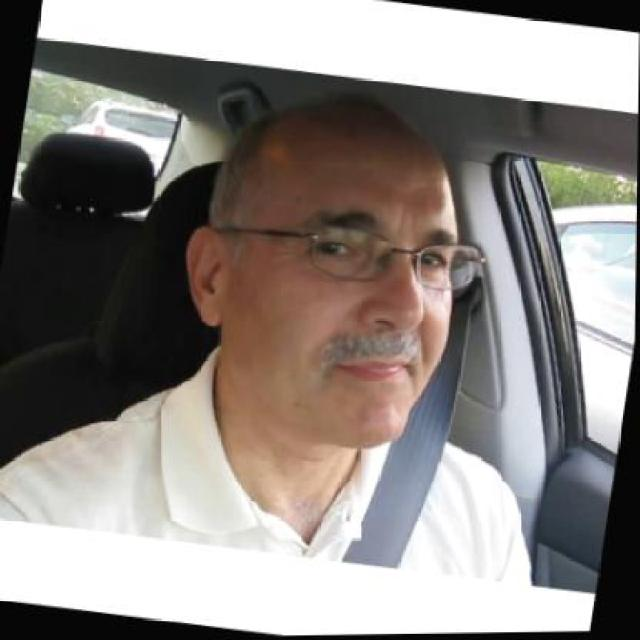attentif: (162, 68, 509, 461)
